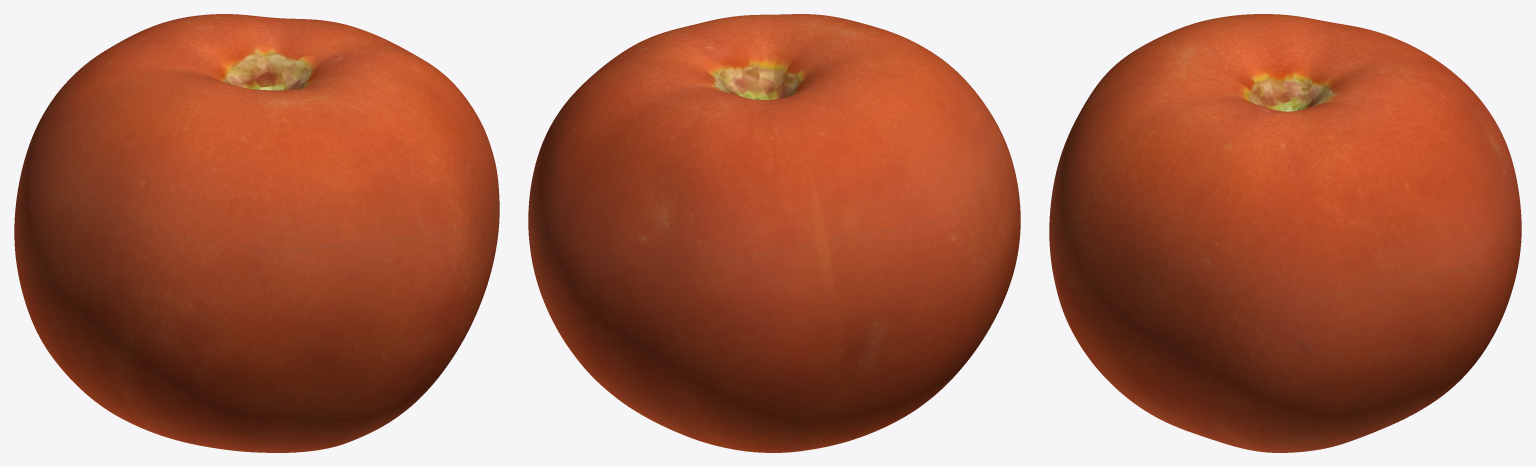
File: tomato.obj
The picture shows the model from 3 angles, left to right: view 1: azimuth 30°, elevation 25°; view 2: azimuth 150°, elevation 25°; view 3: azimuth 270°, elevation 25°; orthographic projection. The views are drawn at different scales.
Visible parts, largest first — view 1: Tomato_01; view 2: Tomato_01; view 3: Tomato_01.
Boxes of the visible parts, box(x1,y1,x2,y2) form: Tomato_01: box(14, 14, 499, 452); Tomato_01: box(528, 14, 1020, 452); Tomato_01: box(1049, 14, 1521, 452).
Bounding box in the file's own units: 0.3079 × 0.2474 × 0.2977.
Materials: 1 (1 with a texture image).
